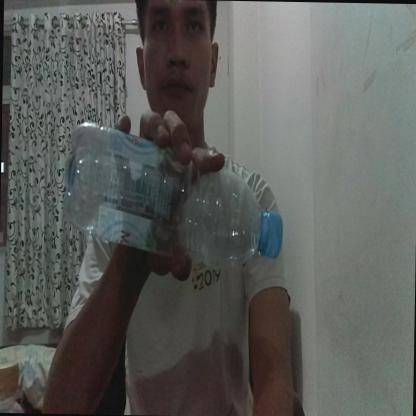plastic_bottles: (62, 124, 282, 264)
